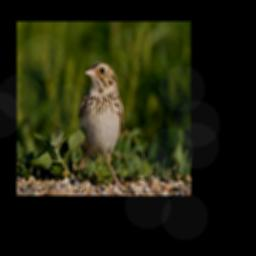Sparrow: (76, 59, 125, 190)
